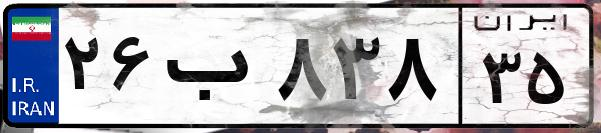2: (57, 26, 110, 100)
3: (330, 28, 385, 110), (475, 38, 525, 113)
5: (525, 38, 570, 115)
6: (110, 28, 158, 98)
8: (270, 28, 330, 110), (385, 28, 445, 110)
ب: (158, 20, 270, 120)
